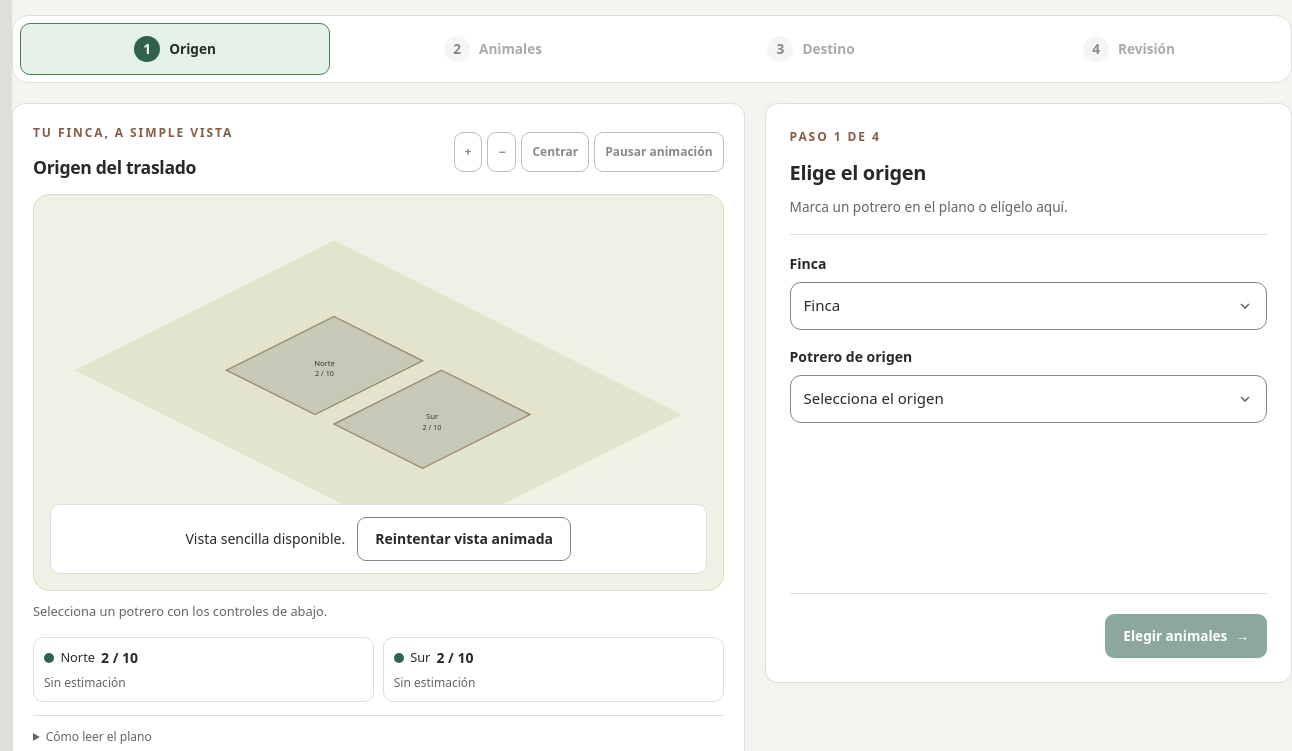
Test: keeps animal selection on its own step and filters the source on the server
(page scrolled)
Click the button with aria-label "Norte: 2 animales;" at x=78, y=657, box [33,637,374,702]
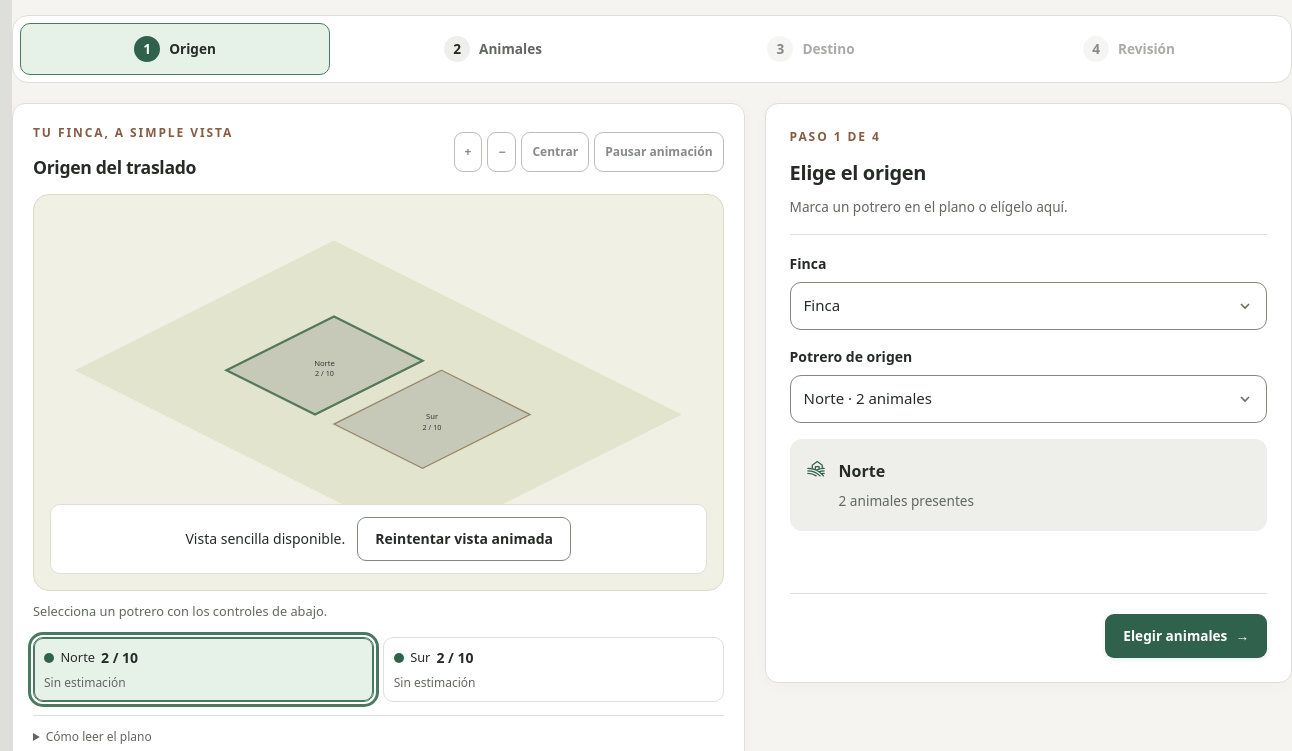
Click the button "Elegir animales →" at x=1186, y=636, box [1105,614,1267,658]
(page scrolled)
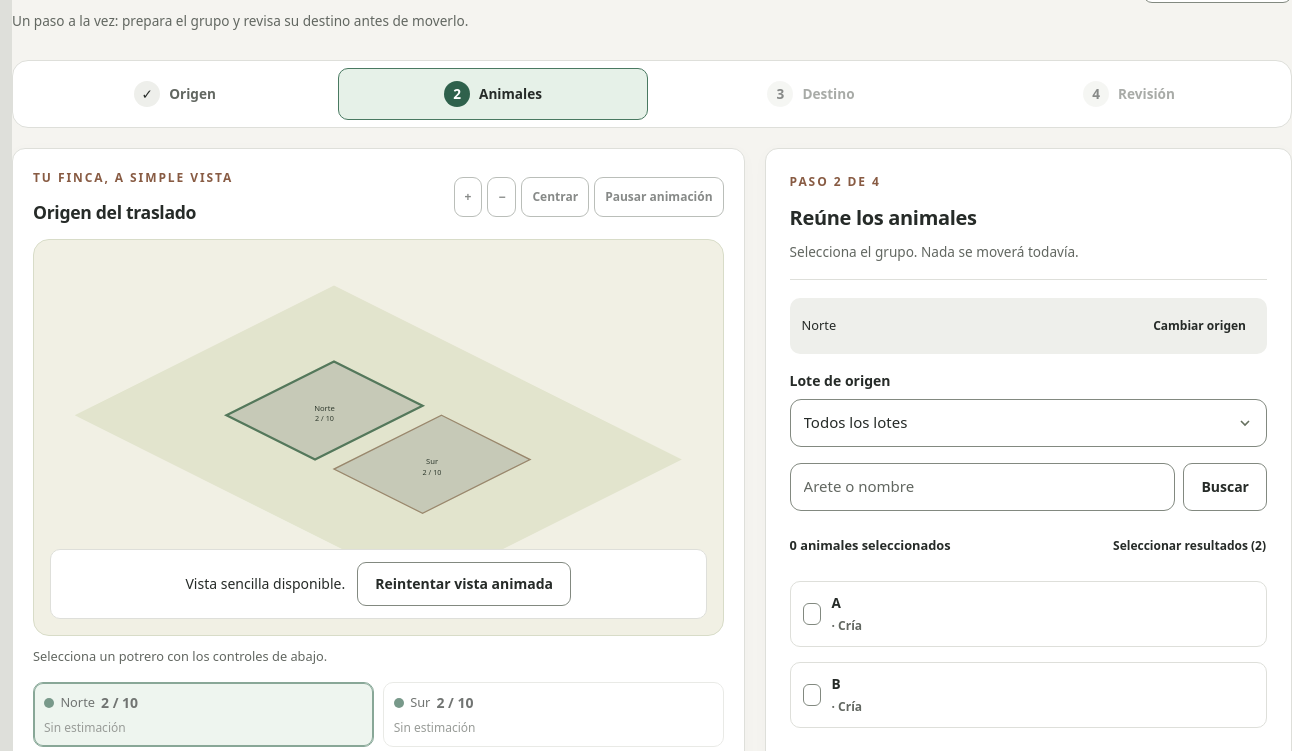
Click the checkbox named "Seleccionar A" at x=812, y=614, box [802,603,820,625]
(page scrolled)
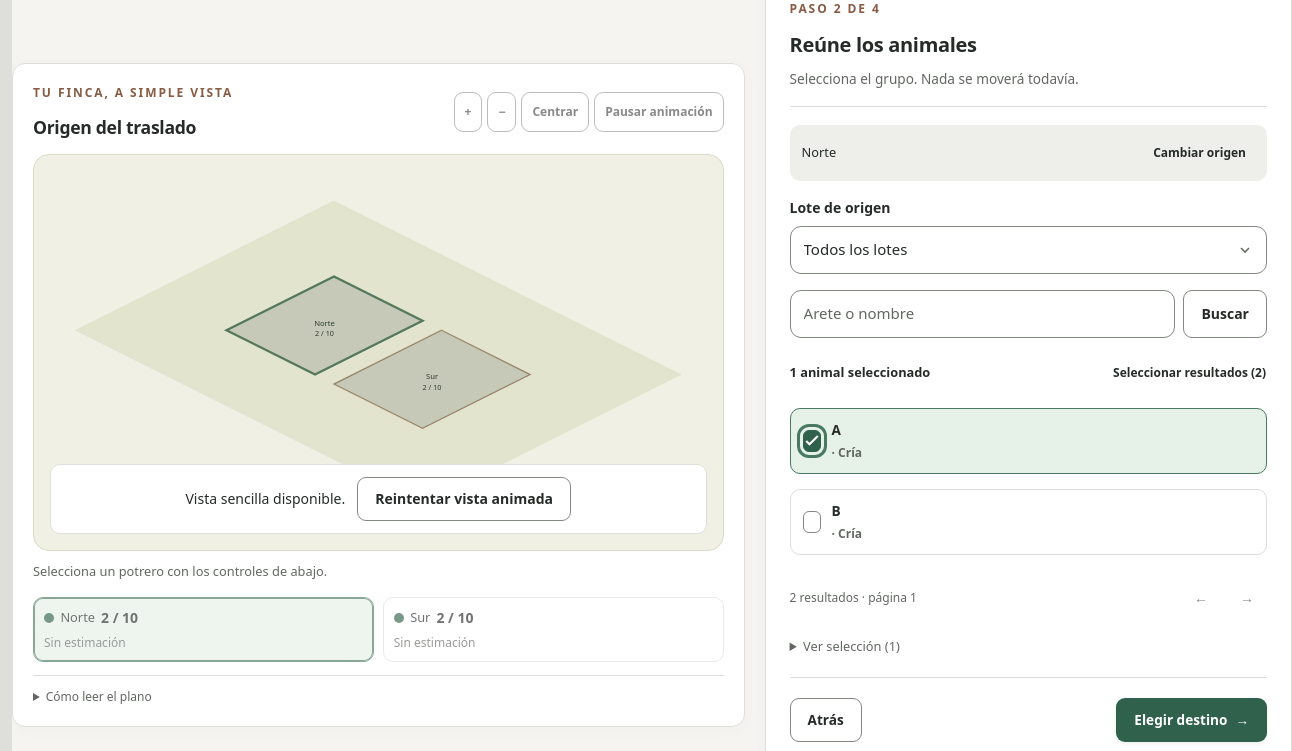
Expected: the field labelled "Potrero de destino *" is not shown
Expected: the heading "Reúne los animales" is shown, [790,31,977,58]
Click the button "Elegir destino →" at x=1192, y=720, box [1116,698,1267,742]
(page scrolled)
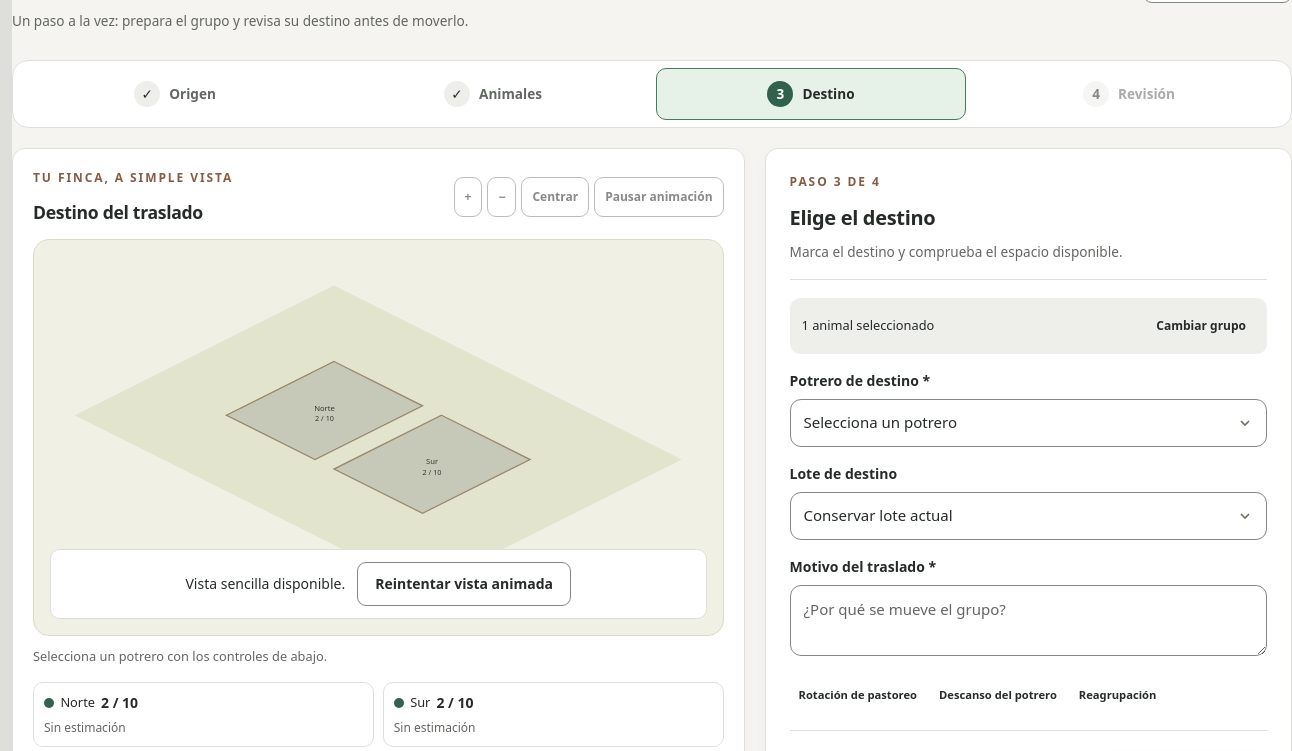
Click the button with aria-label "Sur: 2 animales;" at x=435, y=728, box [383,682,724,747]
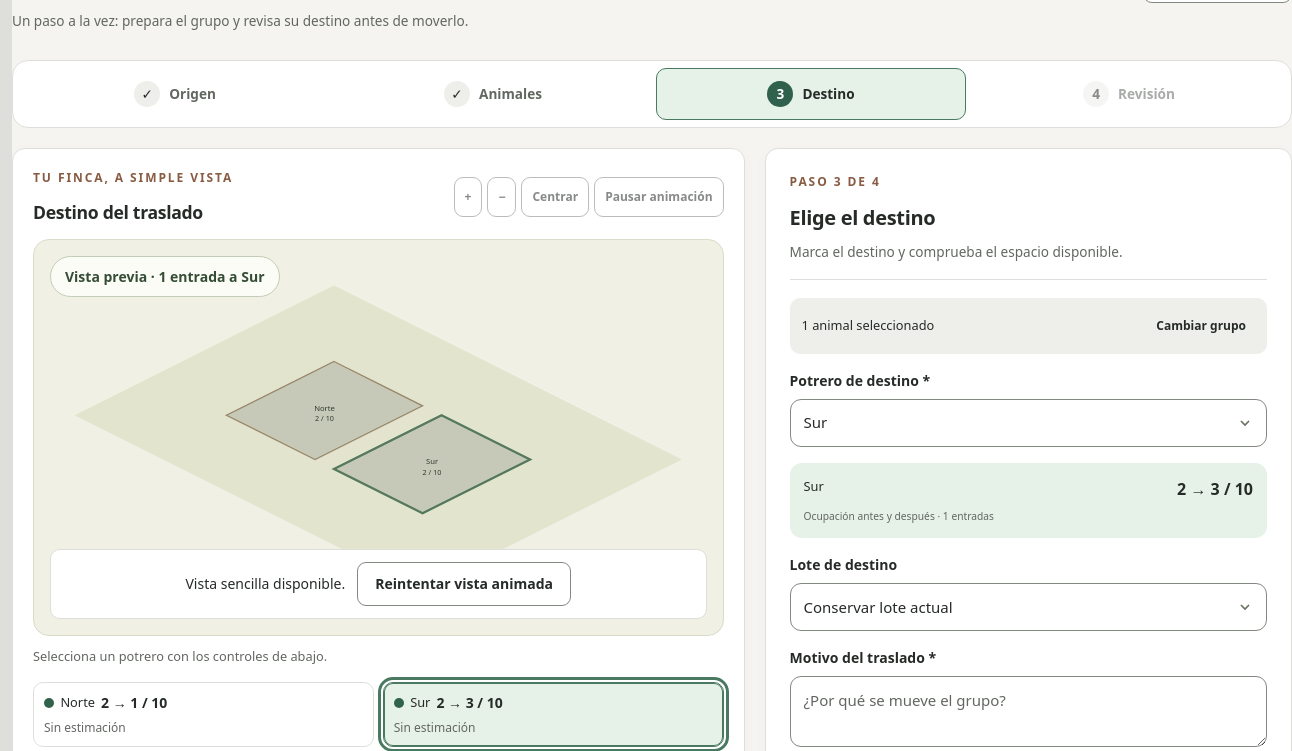
Expected: the dropdown labelled "Potrero de destino *" shows "Sur", [790,398,1267,446]
